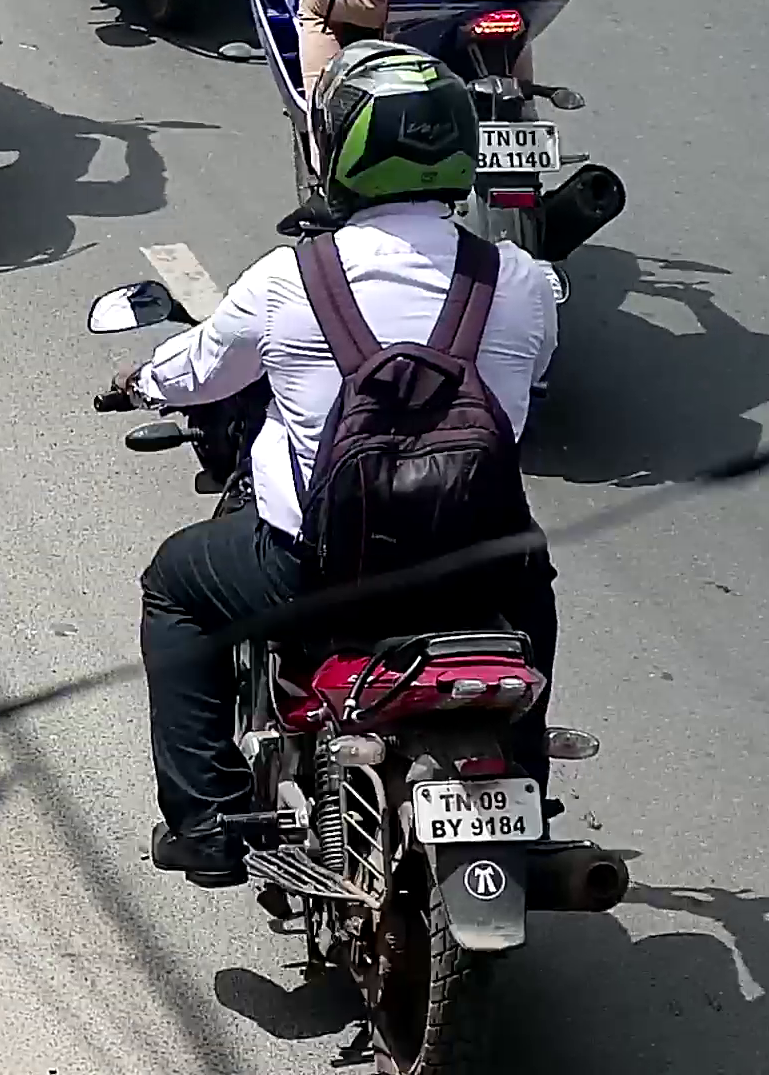0: (479, 792, 493, 811)
1: (484, 816, 496, 836)
4: (512, 814, 526, 835)
8: (498, 815, 512, 835)
9: (493, 791, 507, 811), (470, 816, 484, 836)
B: (431, 819, 446, 839)
N: (455, 792, 472, 812)
P16: (411, 777, 544, 848)
T: (439, 794, 454, 812)
Y: (446, 818, 463, 837)
